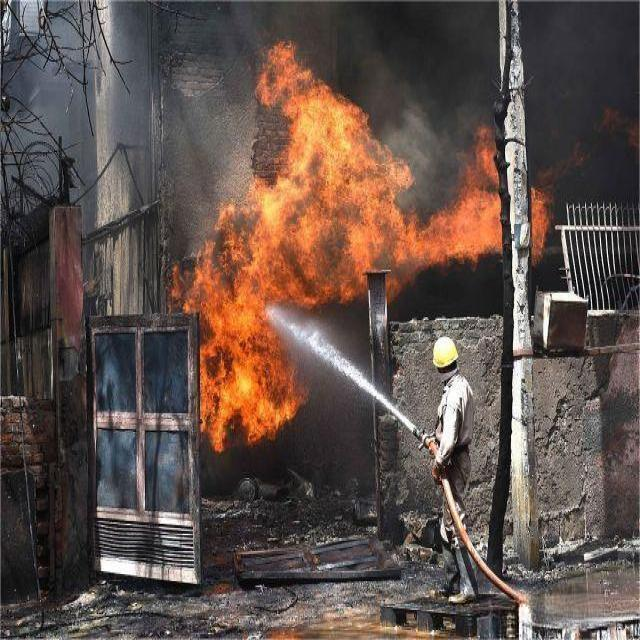Fire: (170, 42, 308, 450), (307, 66, 504, 300), (532, 186, 552, 265)
